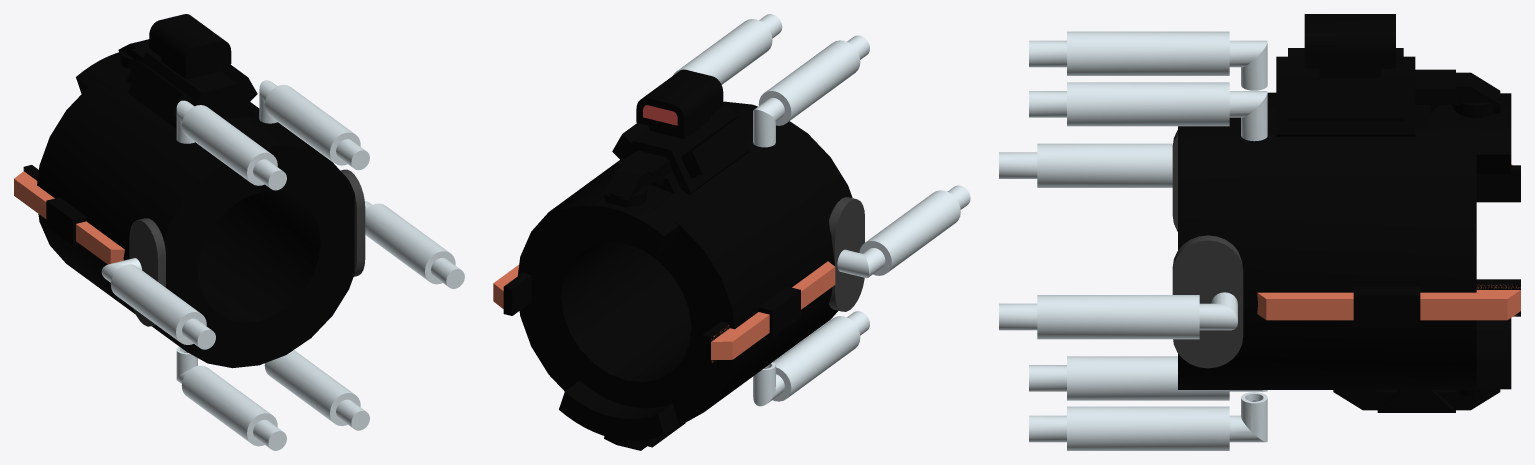
Rendered from laserunit_body.model.obj.
3 views of the same model, side by side, from view 1: azimuth 30°, elevation 25°; view 2: azimuth 150°, elevation 25°; view 3: azimuth 270°, elevation 25° (orthographic). The views are drawn at different scales.
Bounding box in the file's own units: 1.35 × 1.48 × 1.75.
